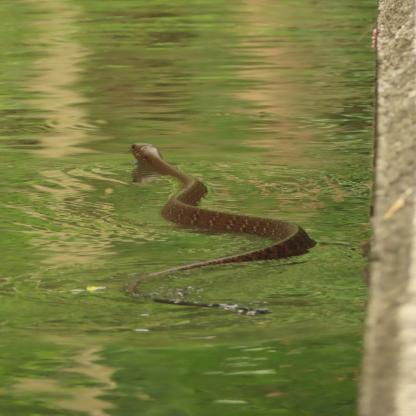Snake: (122, 140, 315, 315), (123, 139, 182, 175)
